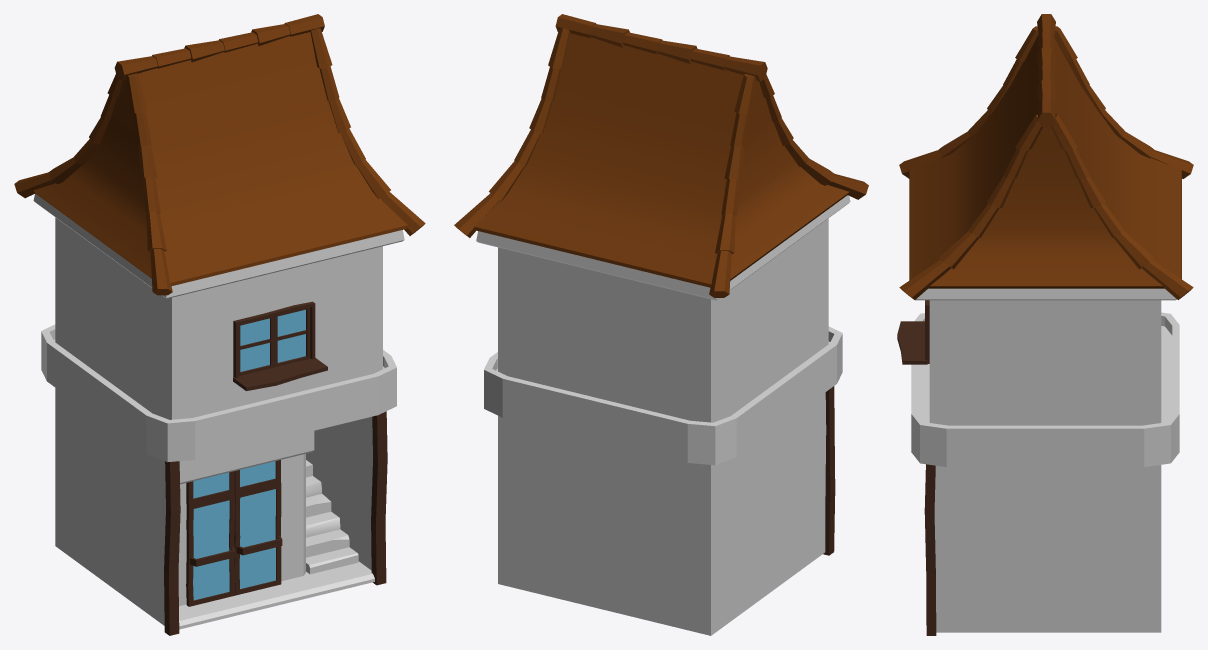
The model's file is SM_shop_03.fbx.
3 renders of one model, left to right at view 1: azimuth 30°, elevation 25°; view 2: azimuth 150°, elevation 25°; view 3: azimuth 270°, elevation 25°, orthographic.
Visible parts, largest first — view 1: Box002; view 2: Box002; view 3: Box002.
Boxes of the visible parts, x1,y1,x2,y2 form: Box002: (14, 14, 425, 635); Box002: (454, 14, 868, 635); Box002: (897, 14, 1193, 635).
Bounding box in the file's own units: 209 × 389 × 200.
